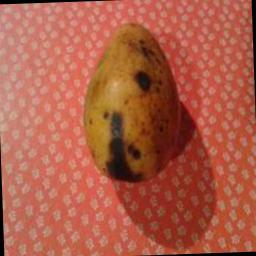Mango Overripe: (77, 16, 182, 181)
